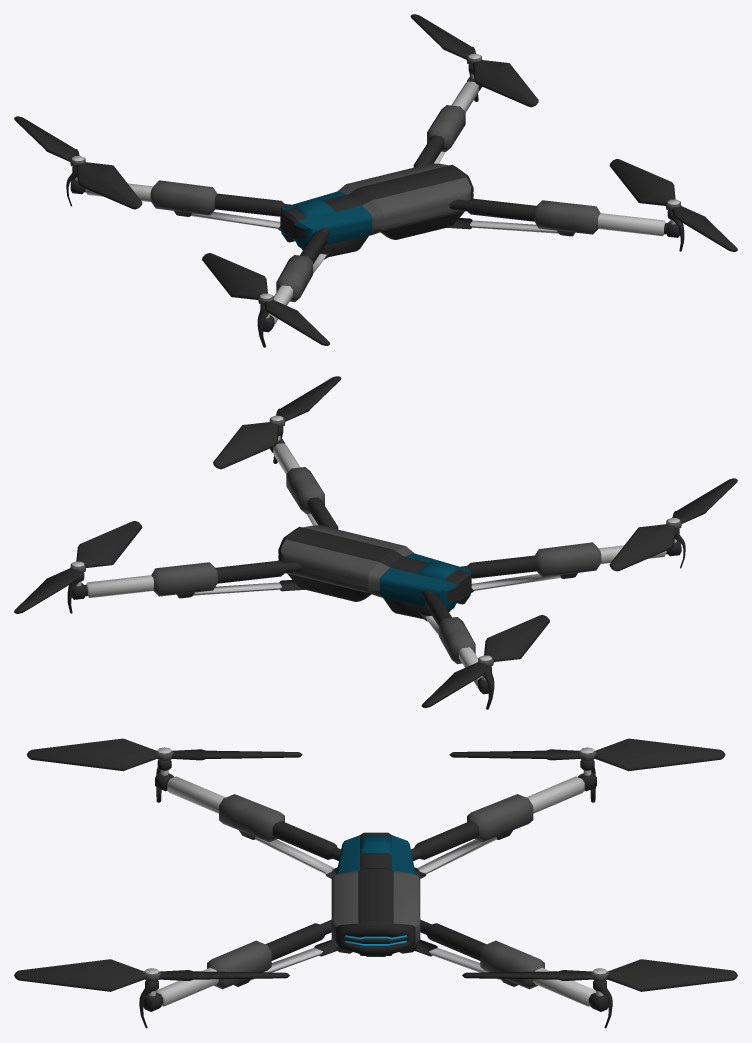
Rendered from Low_Poly_Drone.glb.
3 renders of one model, top to bottom at view 1: azimuth 30°, elevation 25°; view 2: azimuth 150°, elevation 25°; view 3: azimuth 270°, elevation 25°, orthographic. The views are drawn at different scales.
Parts seen in each view (by area): view 1: Propellors_Material.007_0, Rotory Base_Material.002_0, Rotory Base_Material.007_0, Base_Material.007_0, Base_Material.002_0, Rotory Base_Material.004_0, Base_Material.006_0; view 2: Propellors_Material.007_0, Rotory Base_Material.002_0, Rotory Base_Material.007_0, Base_Material.007_0, Base_Material.002_0, Rotory Base_Material.004_0, Base_Material.006_0; view 3: Propellors_Material.007_0, Rotory Base_Material.007_0, Rotory Base_Material.002_0, Rotory Base_Material.004_0, Base_Material.007_0, Base_Material.002_0, Base_Material.006_0, Propellors_Material.002_0.
Part boxes in pixels (x1,y1,x2,y2): Propellors_Material.007_0: (14,14,737,345); Rotory Base_Material.002_0: (150,105,600,302); Rotory Base_Material.007_0: (66,64,684,347); Base_Material.007_0: (280,164,473,257); Base_Material.002_0: (338,163,471,235); Rotory Base_Material.004_0: (75,73,675,324); Base_Material.006_0: (280,191,372,247); Propellors_Material.007_0: (14,376,737,707); Rotory Base_Material.002_0: (151,467,601,664); Rotory Base_Material.007_0: (67,426,685,709); Base_Material.007_0: (278,526,471,619); Base_Material.002_0: (280,525,413,597); Rotory Base_Material.004_0: (76,435,676,685); Base_Material.006_0: (379,553,471,609); Propellors_Material.007_0: (14,738,737,991); Rotory Base_Material.007_0: (139,760,612,1028); Rotory Base_Material.002_0: (207,794,544,989); Rotory Base_Material.004_0: (148,770,603,1006); Base_Material.007_0: (335,832,416,955); Base_Material.002_0: (331,870,420,947); Base_Material.006_0: (336,835,415,874); Propellors_Material.002_0: (142,750,609,981).
Size of the model in its own units: 17.6 by 2.28 by 22.53.
